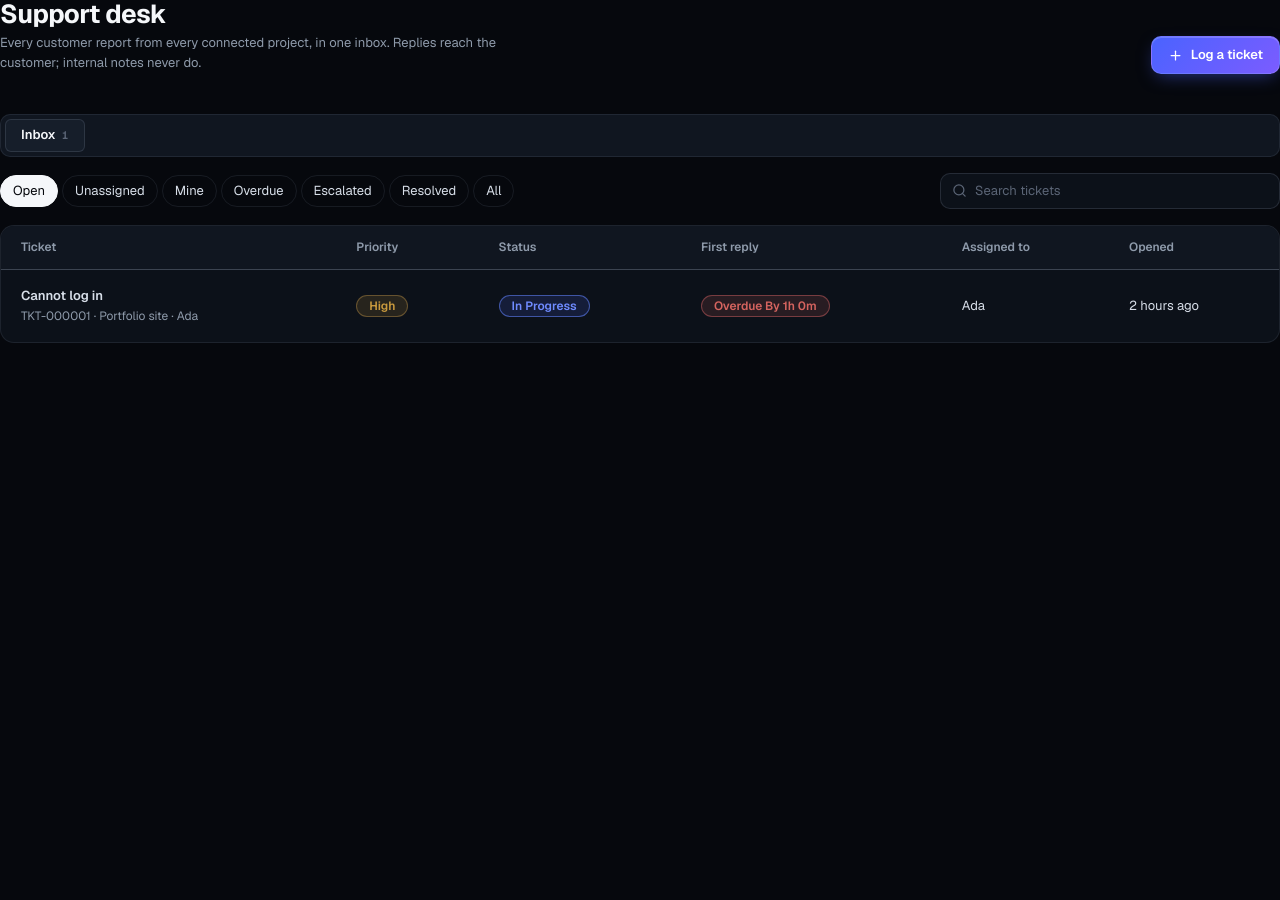
Test: Support desk › won't let an agent change a ticket assigned to a colleague, but lets them see it
This screenshot has width=1280, height=900.
Click the text "Cannot log in" at (62, 296), box [21,287,103,304]
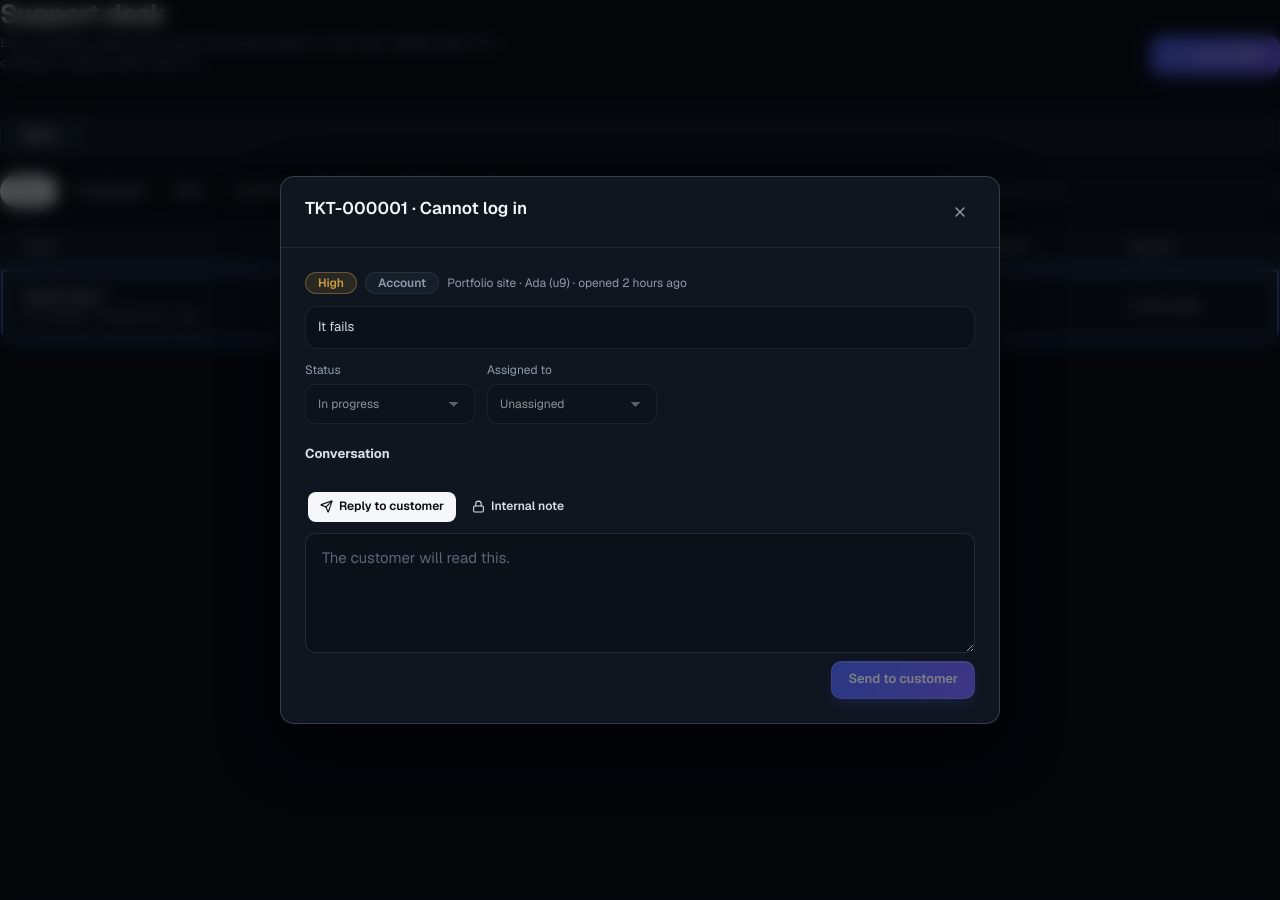
Expected: the dropdown labelled "Status" is disabled, [305,384,475,424]
